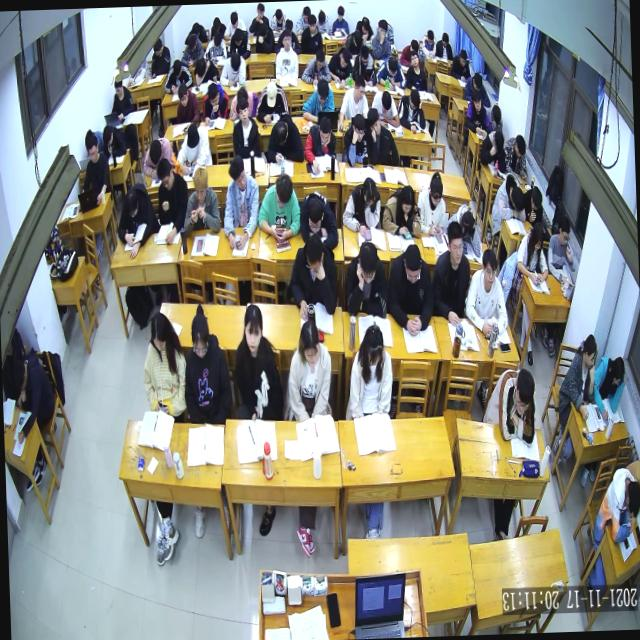bow: (482, 366, 538, 448), (115, 179, 158, 259), (298, 187, 339, 253), (380, 182, 420, 240), (443, 202, 482, 258), (264, 112, 304, 166), (490, 170, 526, 223), (300, 76, 336, 124), (255, 79, 290, 123), (141, 134, 176, 178), (370, 86, 400, 128), (374, 53, 406, 92), (299, 48, 331, 86), (162, 58, 194, 95), (463, 68, 490, 108), (326, 48, 353, 86), (100, 120, 128, 156), (521, 183, 544, 226), (228, 84, 254, 121), (192, 56, 218, 86), (344, 27, 364, 59), (420, 28, 438, 58)
down: (513, 366, 536, 415), (300, 320, 321, 367), (190, 312, 210, 359), (402, 242, 423, 286), (358, 240, 378, 286), (149, 310, 169, 354), (304, 234, 324, 276), (364, 325, 384, 367), (274, 170, 294, 210), (8, 354, 27, 394), (623, 475, 640, 518), (229, 154, 248, 192), (192, 164, 210, 204), (306, 196, 324, 234), (156, 156, 175, 192), (360, 175, 378, 209), (123, 186, 140, 220), (608, 354, 625, 388), (582, 333, 598, 369), (458, 208, 474, 240), (399, 185, 415, 216), (530, 220, 545, 252), (428, 176, 443, 207), (272, 119, 288, 148), (317, 116, 332, 146), (148, 138, 164, 166), (316, 77, 330, 106), (265, 79, 279, 108), (185, 123, 200, 149), (558, 217, 571, 246), (207, 82, 220, 108), (358, 223, 373, 244), (407, 86, 420, 110), (354, 75, 366, 101), (176, 82, 188, 108), (102, 124, 114, 149), (492, 130, 504, 154), (514, 134, 526, 158), (358, 45, 371, 67), (380, 90, 392, 112), (230, 52, 242, 73), (339, 48, 351, 69), (212, 30, 224, 50), (232, 27, 244, 47), (472, 71, 484, 91), (195, 57, 206, 77), (314, 50, 325, 70), (491, 104, 502, 124), (386, 55, 396, 76), (114, 78, 124, 98), (152, 38, 162, 58), (188, 34, 198, 54), (172, 59, 182, 79), (258, 20, 268, 40), (307, 13, 317, 33), (352, 28, 362, 48), (458, 48, 468, 68), (440, 30, 450, 48), (426, 29, 434, 47)
lookup: (242, 302, 264, 355), (446, 220, 464, 266), (481, 248, 498, 288), (366, 106, 382, 138), (351, 113, 366, 143), (236, 96, 250, 125), (87, 134, 99, 162), (280, 27, 292, 49), (472, 88, 482, 113), (377, 18, 387, 38), (410, 48, 420, 67)
sit: (228, 302, 284, 422), (180, 306, 232, 426), (140, 309, 188, 426), (284, 318, 332, 422), (384, 240, 434, 338), (345, 322, 395, 420), (287, 230, 340, 322), (429, 220, 473, 328), (8, 350, 57, 445), (462, 247, 508, 340), (554, 332, 600, 420), (222, 152, 262, 250), (591, 465, 640, 544), (342, 240, 388, 321), (256, 170, 302, 247), (153, 154, 190, 246), (180, 164, 220, 236), (339, 176, 382, 242), (592, 352, 628, 418), (514, 220, 550, 286), (302, 116, 338, 178), (80, 135, 110, 207), (365, 105, 399, 168), (230, 94, 262, 160), (546, 217, 576, 286), (173, 122, 212, 175), (417, 172, 448, 238), (336, 75, 369, 134), (342, 111, 371, 169), (396, 86, 426, 134), (272, 26, 298, 80), (200, 80, 230, 126), (478, 127, 507, 173), (464, 86, 490, 136), (174, 80, 200, 128), (108, 76, 134, 122), (502, 134, 528, 180), (350, 45, 377, 88), (404, 49, 428, 94), (299, 14, 323, 56), (218, 53, 246, 88), (370, 18, 392, 61), (226, 25, 252, 61), (202, 28, 227, 64), (149, 37, 171, 77), (180, 32, 203, 70), (448, 47, 471, 82), (254, 20, 276, 54), (330, 3, 350, 36), (434, 31, 454, 60), (486, 102, 504, 134)
